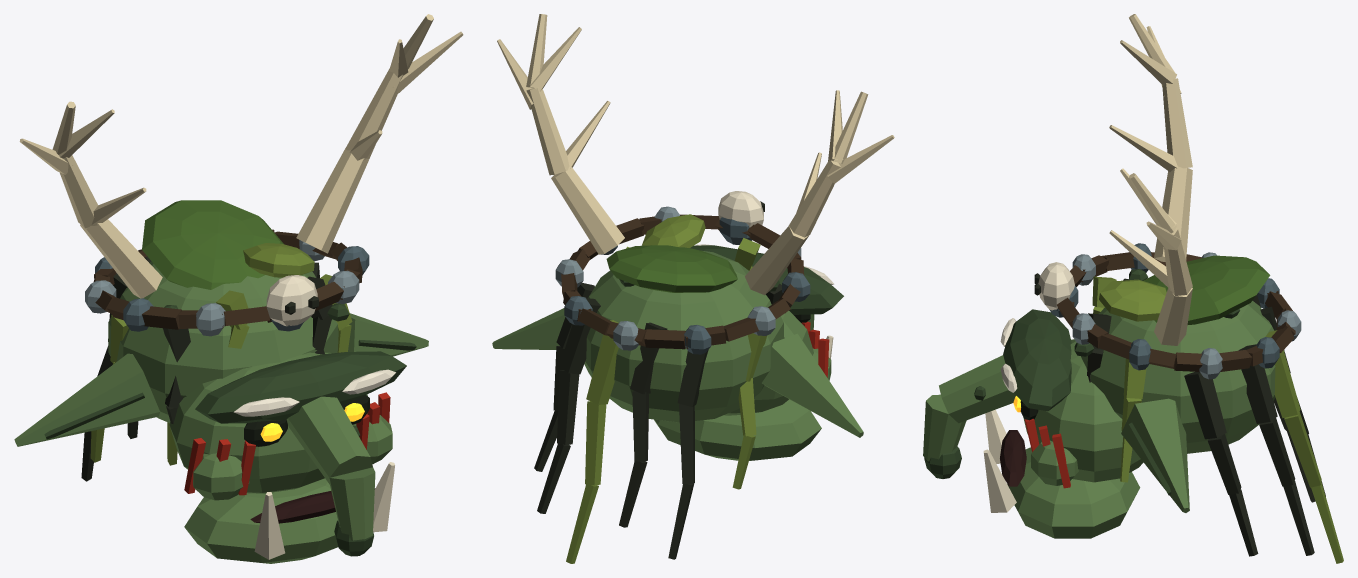
Rendered from troll_chief_head.glb.
3 views of the same model, side by side, from view 1: azimuth 30°, elevation 25°; view 2: azimuth 150°, elevation 25°; view 3: azimuth 270°, elevation 25° (orthographic). The views are drawn at different scales.
Parts seen in each view (by area): view 1: troll_chief_head; view 2: troll_chief_head; view 3: troll_chief_head.
Boxes of the visible parts, x1=… form: troll_chief_head: x1=14, y1=14, x2=463, y2=563; troll_chief_head: x1=492, y1=14, x2=894, y2=563; troll_chief_head: x1=923, y1=14, x2=1343, y2=563.
Bounding box in the file's own units: 1.73 × 1.85 × 1.56.
